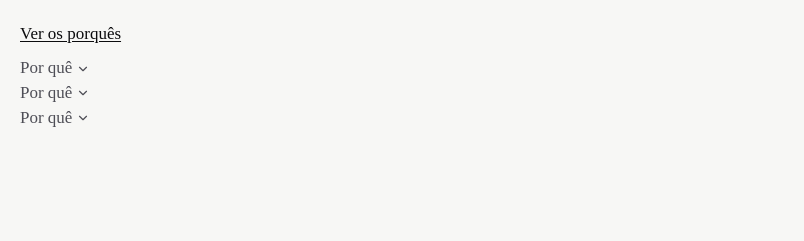
Scenario: PorQue › sem vídeo, 'Com base em' diz o tipo de regra em português, nunca o código; 'O que faz' junta no máximo duas frases, a primeira regra primeiro
The width and height of the screenshot is (804, 241).
Step 1. Click the button with aria-label "Por quê: Meio" → (55, 94), box [12,72,98,116]
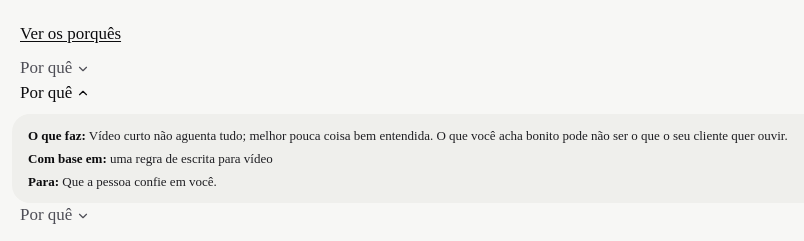
Expected: the element that starts with "O que faz:" shows "Vídeo curto não aguenta tudo; melhor pouca coisa bem entendida.", [89,128,788,143]
Expected: the element that starts with "O que faz:" shows "O que você acha bonito pode não ser o que o seu cliente quer ouvir.", [89,128,788,143]
Expected: the element that starts with "O que faz:" shows "uma regra de escrita para vídeo", [110,151,273,166]
